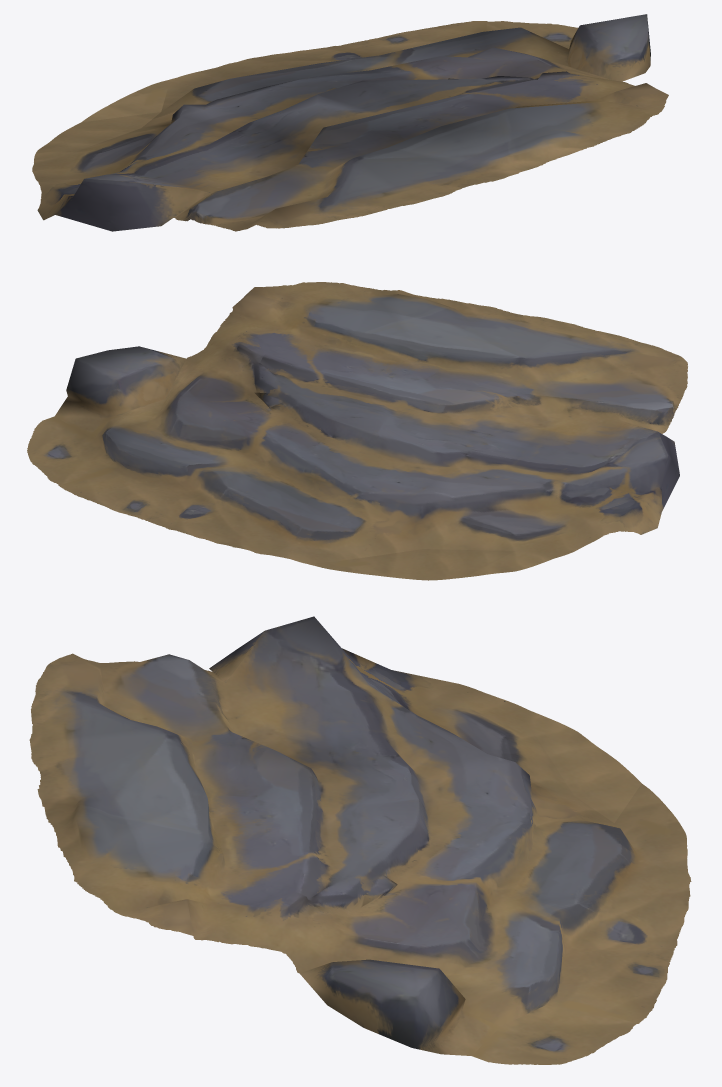
File: scene_malujiakuangdao_louti02.FBX
The picture shows the model from 3 angles, top to bottom: view 1: azimuth 30°, elevation 25°; view 2: azimuth 150°, elevation 25°; view 3: azimuth 270°, elevation 25°; orthographic projection. The views are drawn at different scales.
Visible parts, largest first — view 1: scene_malujiakuangdao_louti02; view 2: scene_malujiakuangdao_louti02; view 3: scene_malujiakuangdao_louti02.
Boxes of the visible parts, x1,y1,x2,y2 form: scene_malujiakuangdao_louti02: (32, 14, 668, 231); scene_malujiakuangdao_louti02: (27, 282, 687, 580); scene_malujiakuangdao_louti02: (29, 616, 691, 1064).
Bounding box in the file's own units: 770 × 97.91 × 585.
